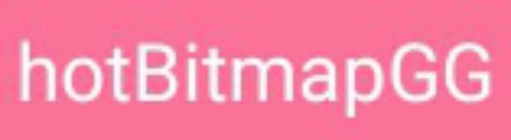TextView: (1, 1, 510, 139)
